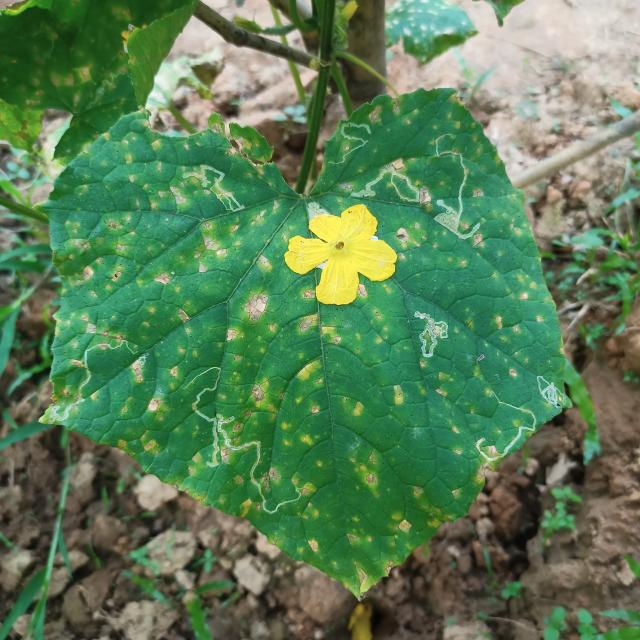disease_cucumber: (73, 115, 546, 561)
